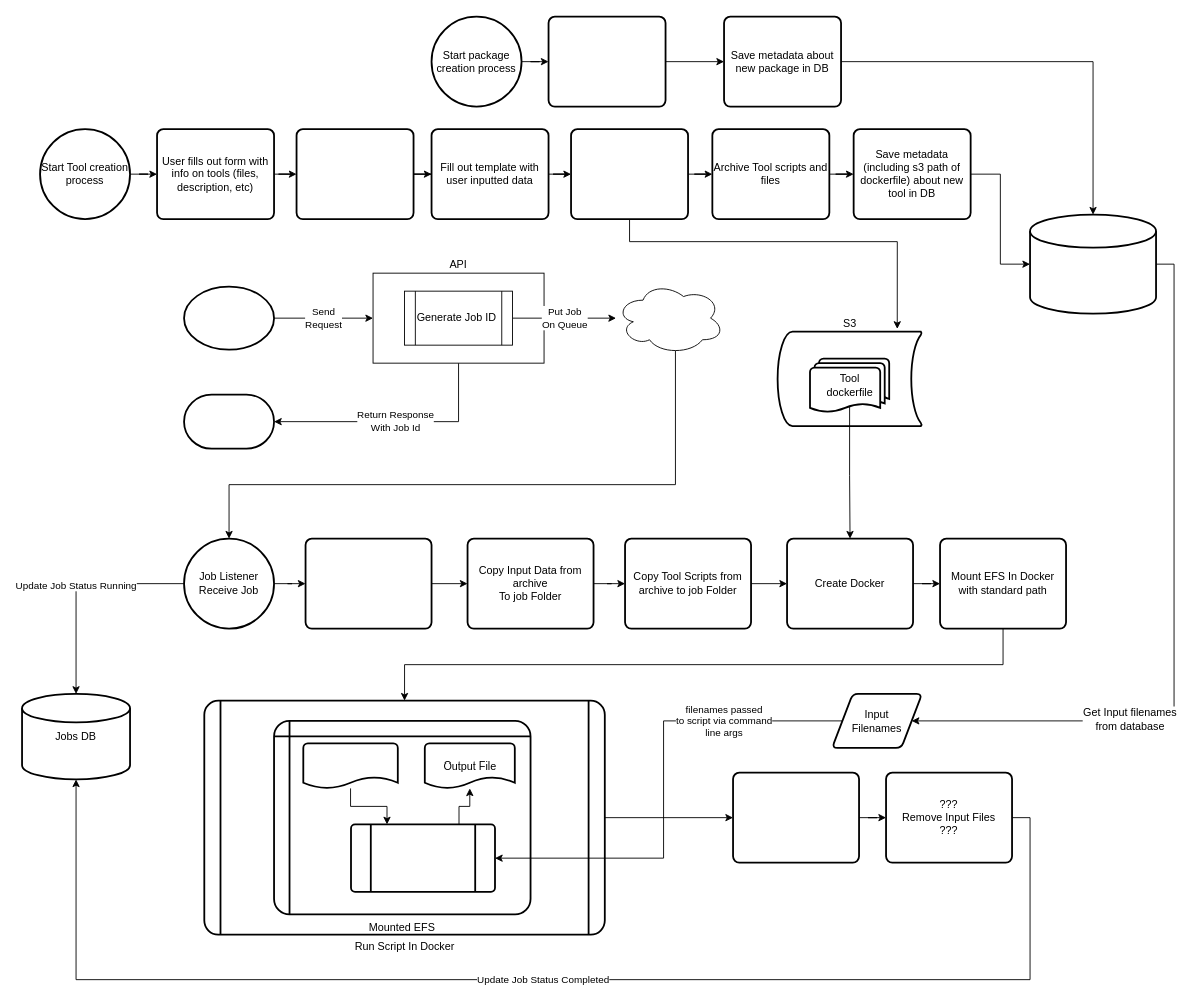
Some shapes in this 1197 by 1003 pixel diagram are drawn without their labels. The box of each missing label's shape, as (x1, y1, x2, y2) in pixels:
Browser: (183, 393, 274, 449)
Create Folder on EFS (efs/user/jobs/job_id): (304, 537, 432, 629)
Entry Point Script: (350, 823, 495, 892)
Input File: (302, 742, 398, 789)
Kill Docker / Free Resources: (732, 771, 860, 863)
Meta Database (Tools, Packages, etc): (1029, 213, 1156, 314)
Pull in template docker file: (295, 128, 414, 220)
Run Button Click: (183, 285, 274, 350)
Save new dockerfile into S3 dockerfile store: (570, 128, 688, 220)
SQS: (615, 281, 724, 354)
User fills out form with info on input files and tools: (547, 15, 666, 107)
